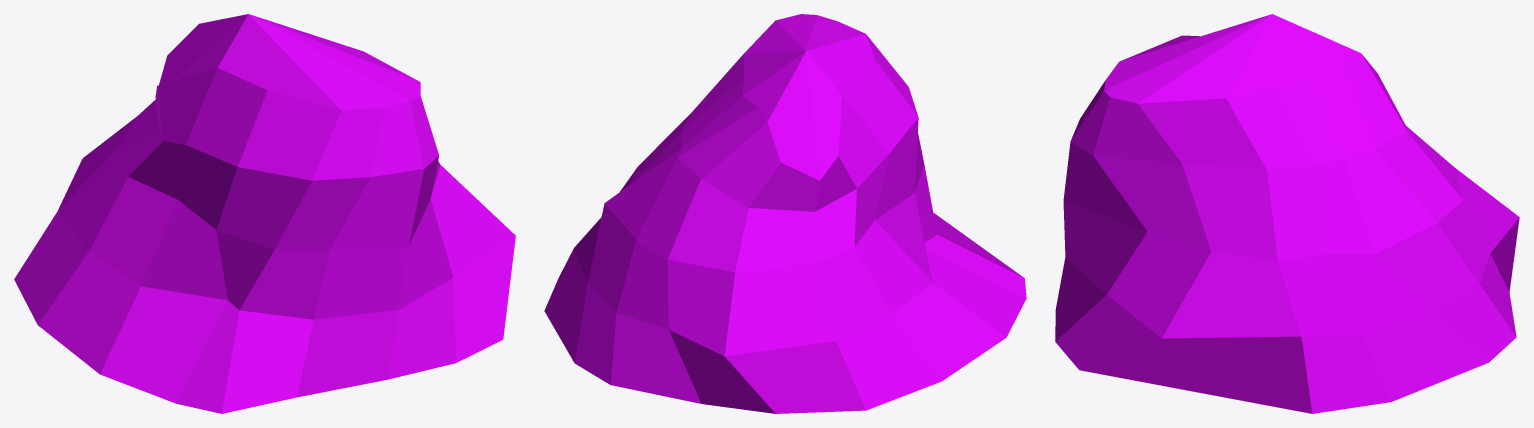
The model's file is TallRock.FBX.
3 renders of one model, left to right at view 1: azimuth 30°, elevation 25°; view 2: azimuth 150°, elevation 25°; view 3: azimuth 270°, elevation 25°, orthographic. The views are drawn at different scales.
Visible parts, largest first — view 1: Object131; view 2: Object131; view 3: Object131.
Part boxes in pixels (x1,y1,x2,y2): Object131: [14, 14, 515, 413]; Object131: [544, 14, 1026, 413]; Object131: [1055, 14, 1519, 413].
Size of the model in its own units: 482 by 463 by 311.
